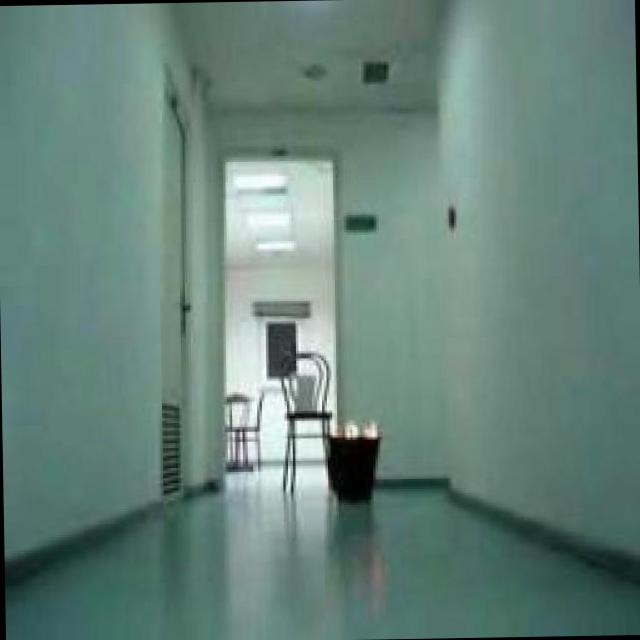Fire: (328, 419, 384, 436)
